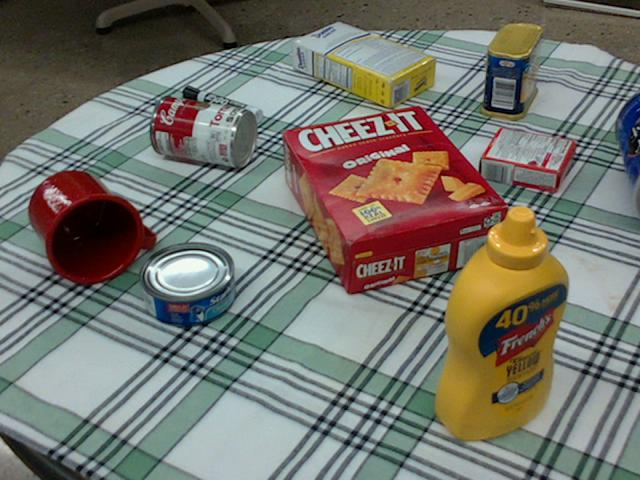cracker_box: (285, 105, 509, 291)
gelatin_box: (478, 128, 572, 190)
large_marker: (181, 85, 260, 121)
master_chef_can: (611, 90, 639, 213)
mug: (27, 169, 152, 283)
mustard_bottle: (436, 204, 570, 438)
potted_meat_can: (479, 23, 541, 119)
sugar_box: (292, 22, 437, 107)
tomato_soup_can: (149, 94, 256, 165)
tuna_fish_can: (136, 241, 234, 326)
